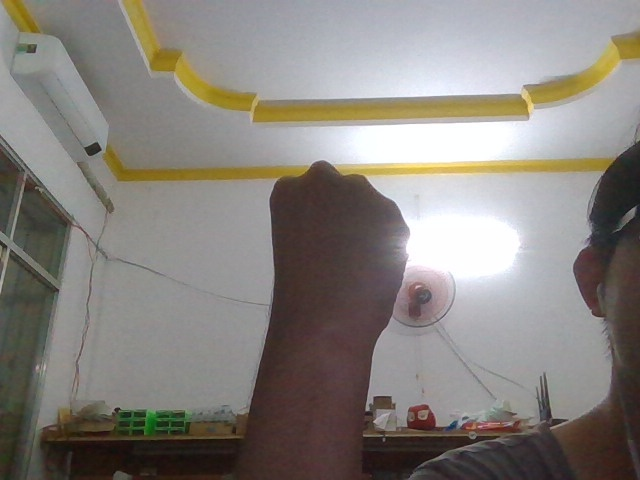fist: (244, 155, 417, 369)
